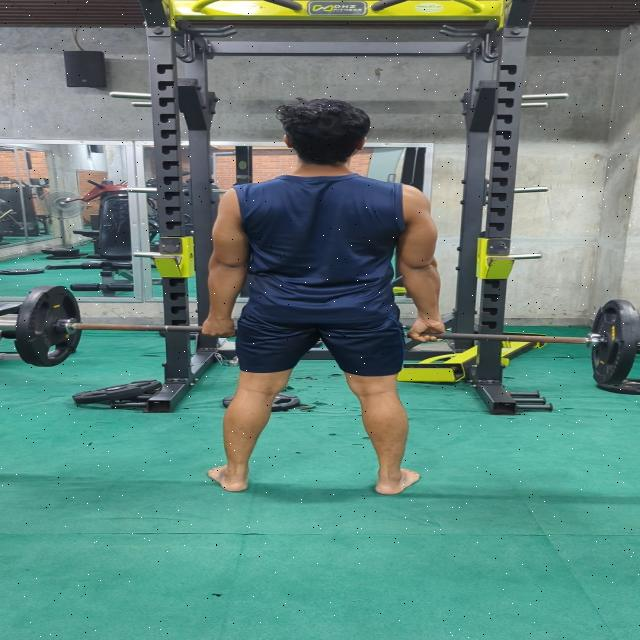Normal_Deadlifts: (198, 98, 446, 496)
